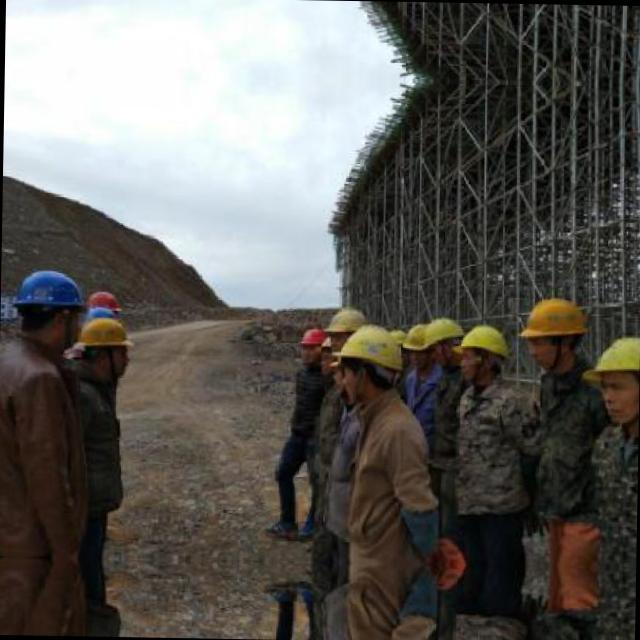helmet: (4, 262, 88, 351), (512, 288, 593, 374), (331, 319, 400, 406), (68, 310, 137, 380), (589, 326, 637, 426), (458, 320, 508, 378), (420, 314, 456, 370), (328, 302, 361, 350), (403, 321, 430, 372), (296, 328, 324, 367)
